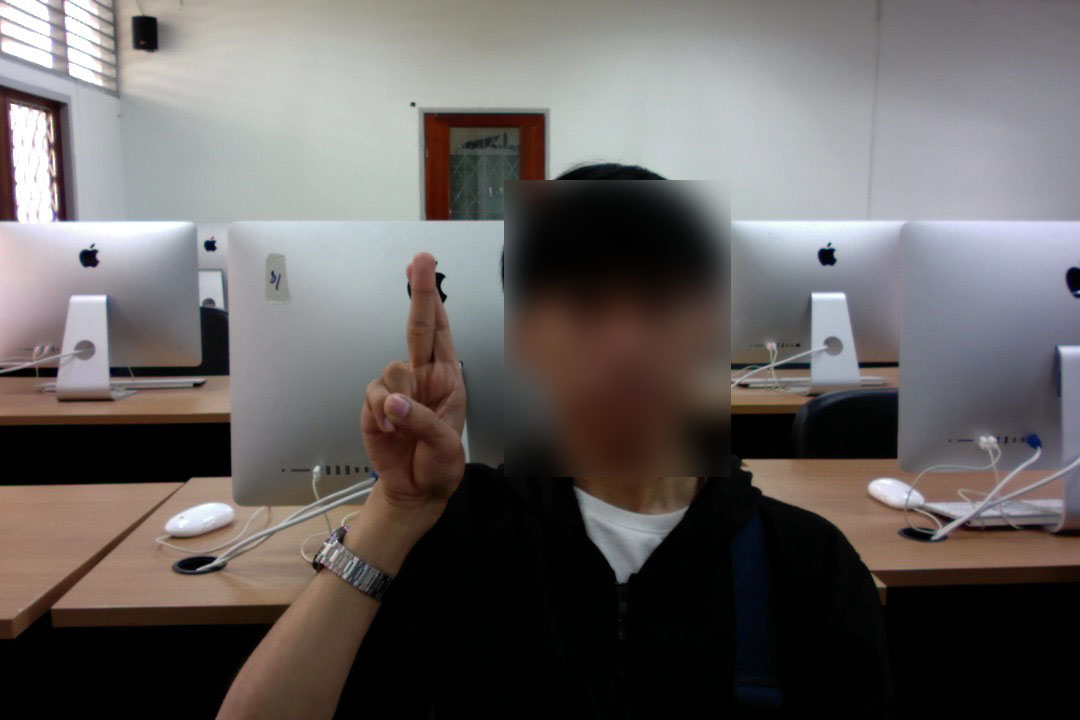rao: (357, 250, 482, 512)
